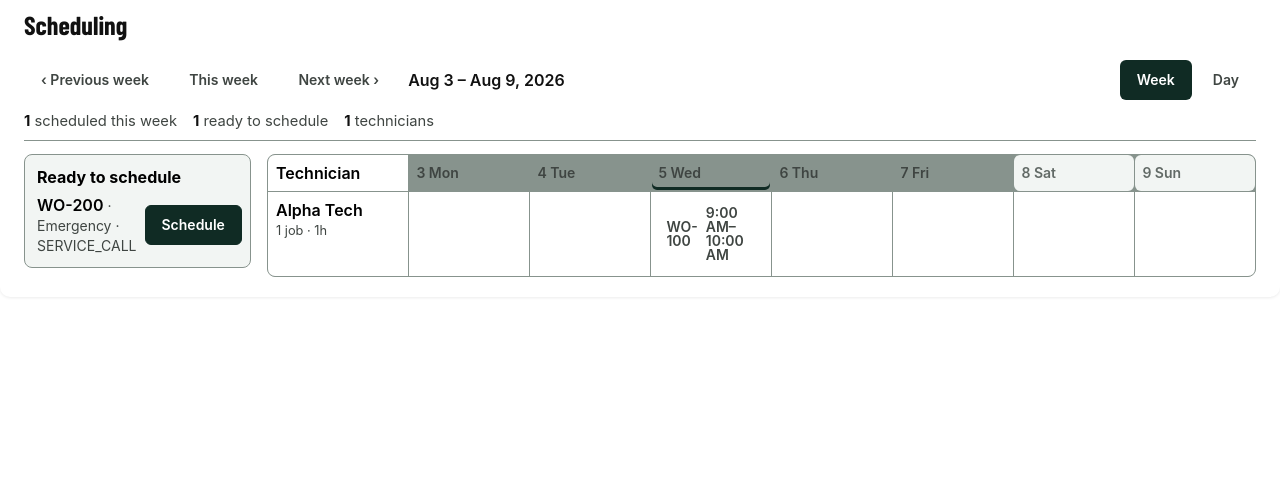
Test case: SchedulingWorkspace honest states + week board › renders a scheduled job in the week + a Ready-to-Schedule row; opening its form; week nav clears it
Expected: the text "WO-100" is shown, [666, 220, 698, 248]
Expected: the text "WO-200" is shown, [37, 195, 104, 215]
Note: Open the schedule collector for the ready WO.
Step 1. Click the button "Schedule" → (193, 225), box [144, 205, 242, 245]
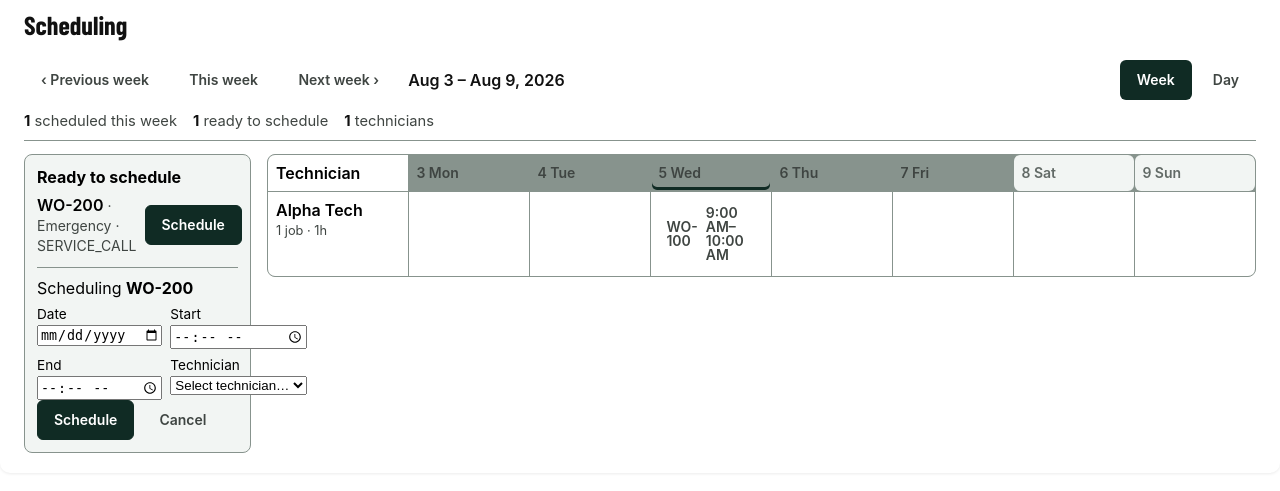
Now the dropdown labelled "Technician" is shown, box [170, 376, 307, 395]
Step 2. Click the button "Next week ›" → (339, 80), box [282, 60, 396, 100]
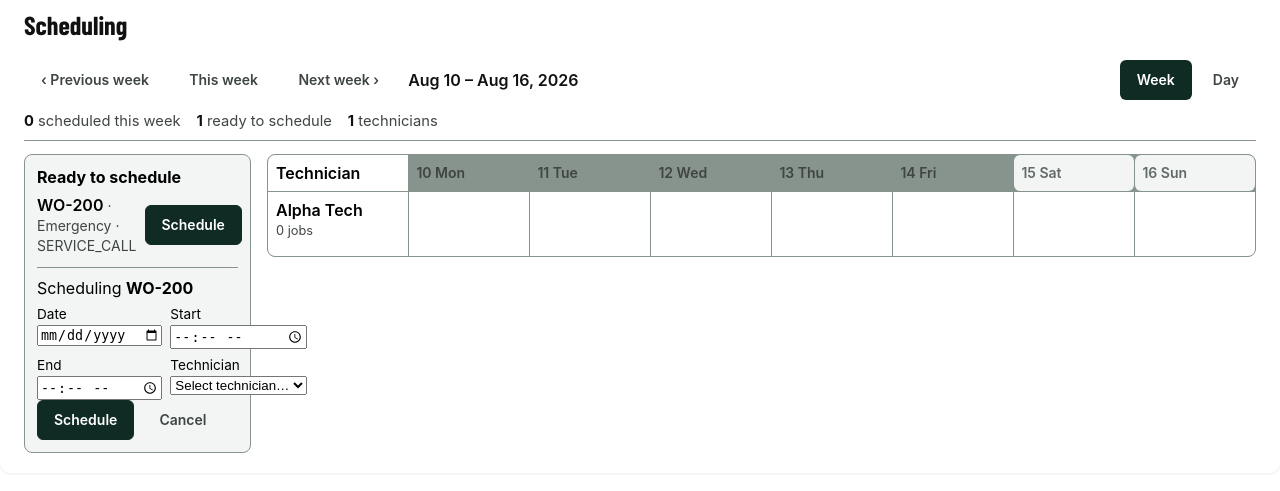
Now the button "WO-100" is gone
